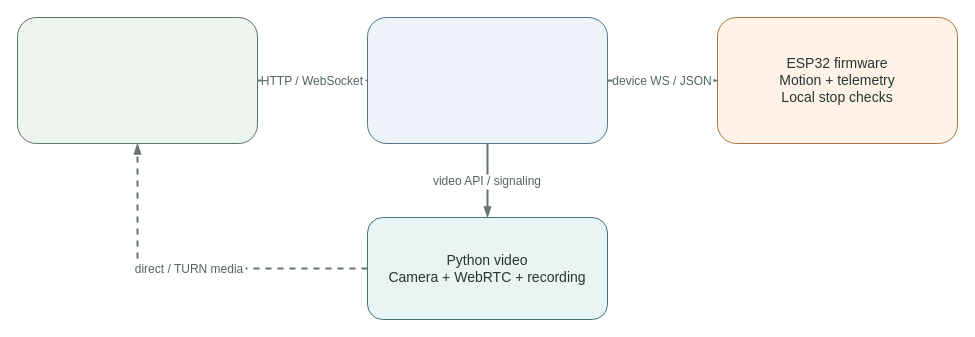
Image size: 975x337. Some labels were removed from this diagram. Here are the shapes that lost their labels. From the top down, the centre of each, then its label:
At [137,80]: "Browser frontend Match page + admin console Input and video display".
At [487,80]: "Go service Accounts + match state Control admission + API".
